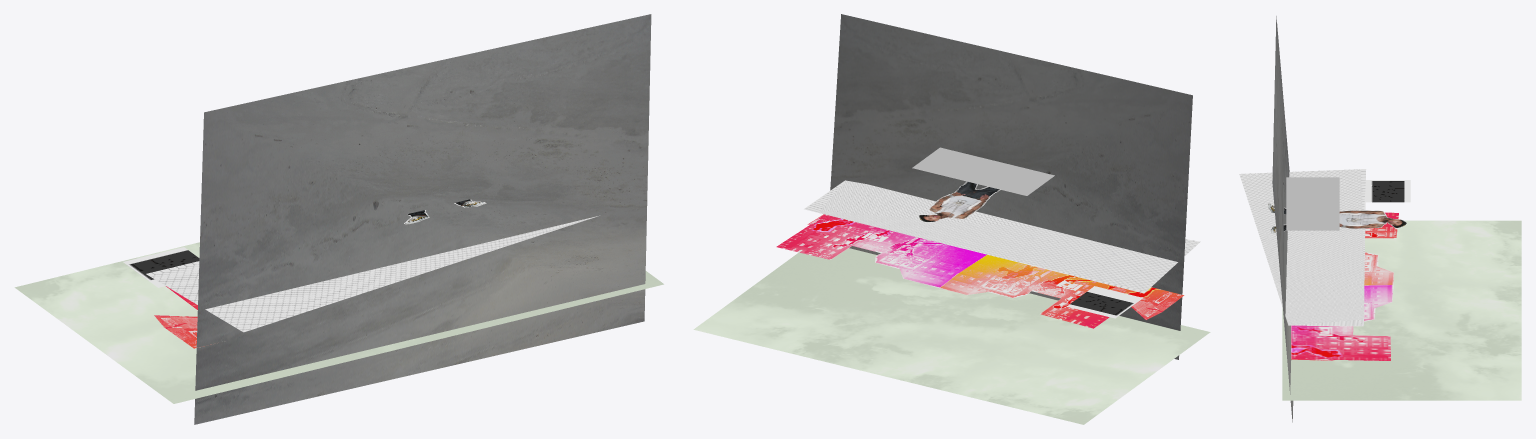
Rendered from scene_tyga.fbx.
3 views of the same model, side by side, from view 1: azimuth 30°, elevation 25°; view 2: azimuth 150°, elevation 25°; view 3: azimuth 270°, elevation 25° (orthographic). The views are drawn at different scales.
Parts seen in each view (by area): view 1: Plane_001, Plane_004, Plane_003, Plane_002, Plane; view 2: Plane_001, Plane_004, Plane_003, Plane, Plane_006, Plane_005, Plane_002; view 3: Plane_004, Plane_003, Plane, Plane_001, Plane_006, Plane_005, Plane_002.
Part boxes in pixels (x1,y1,x2,y2): Plane_001: [194, 14, 651, 424]; Plane_004: [14, 242, 663, 403]; Plane_003: [146, 215, 599, 332]; Plane_002: [123, 247, 199, 287]; Plane: [154, 286, 211, 348]; Plane_001: [830, 14, 1192, 359]; Plane_004: [693, 248, 1210, 424]; Plane_003: [804, 180, 1200, 293]; Plane: [776, 214, 1184, 328]; Plane_006: [912, 147, 1054, 195]; Plane_005: [918, 181, 1000, 222]; Plane_002: [1067, 286, 1142, 318]; Plane_004: [1282, 220, 1521, 400]; Plane_003: [1239, 169, 1366, 326]; Plane: [1291, 212, 1398, 360]; Plane_001: [1272, 16, 1293, 422]; Plane_006: [1286, 177, 1339, 230]; Plane_005: [1268, 203, 1406, 233]; Plane_002: [1365, 180, 1410, 202].
Size of the model in its own units: 16 by 10.19 by 10.62.
